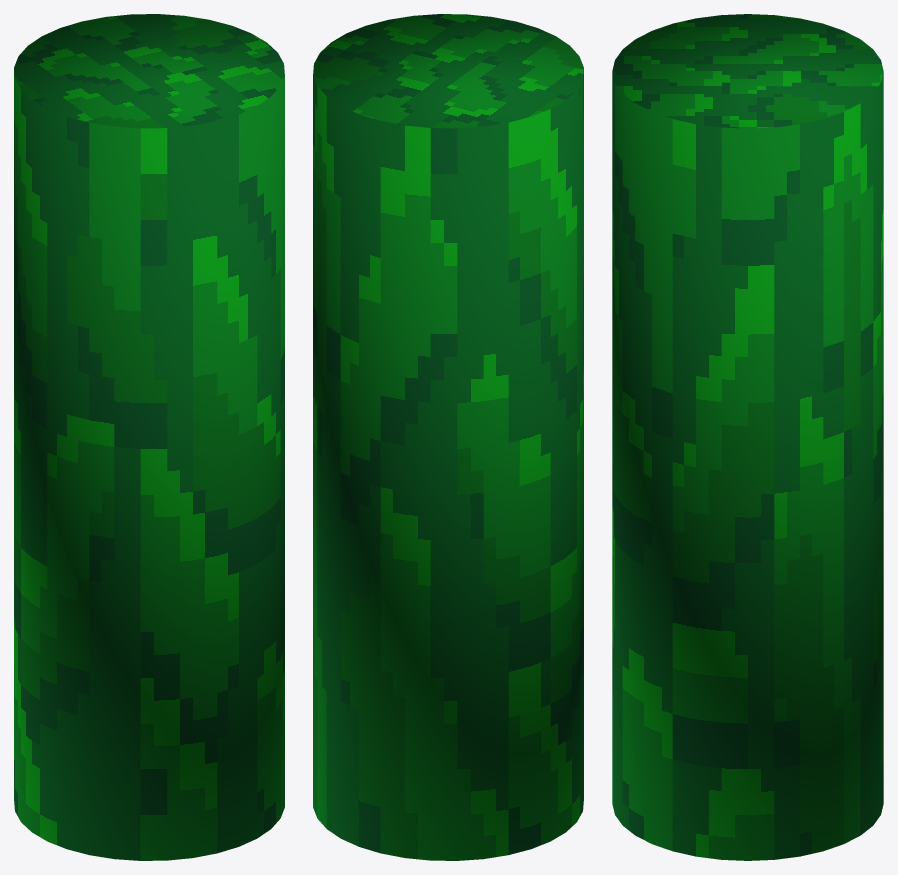
File: cylindrical_mask.obj
The picture shows the model from 3 angles, left to right: view 1: azimuth 30°, elevation 25°; view 2: azimuth 150°, elevation 25°; view 3: azimuth 270°, elevation 25°; orthographic projection.
Parts seen in each view (by area): view 1: Cylinder; view 2: Cylinder; view 3: Cylinder.
Part boxes in pixels (<box>): Cylinder: <box>14,14,284,860</box>; Cylinder: <box>313,14,583,860</box>; Cylinder: <box>612,14,883,860</box>.
Bounding box in the file's own units: 2 × 5.96 × 2.
1 material, 1 textured.
